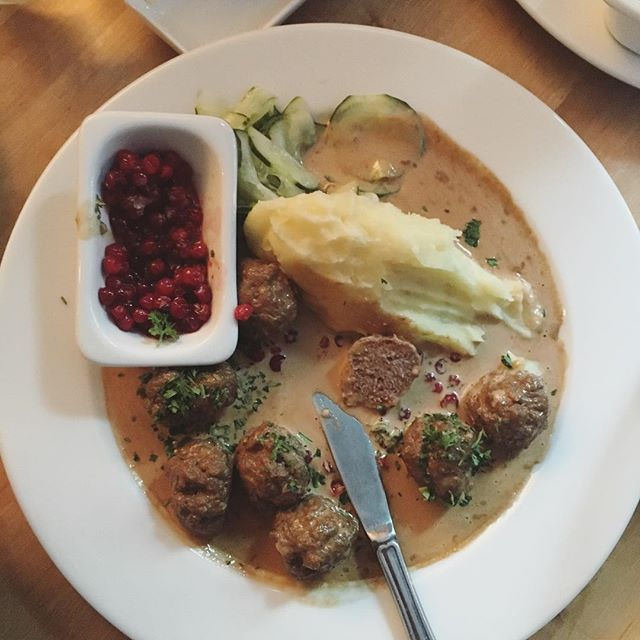boiled potatoes: (246, 201, 526, 340)
meatballs: (449, 359, 561, 453), (395, 409, 492, 508), (153, 442, 240, 532), (233, 425, 316, 510), (142, 367, 247, 431), (341, 337, 425, 414), (231, 260, 303, 346), (278, 506, 360, 578)
